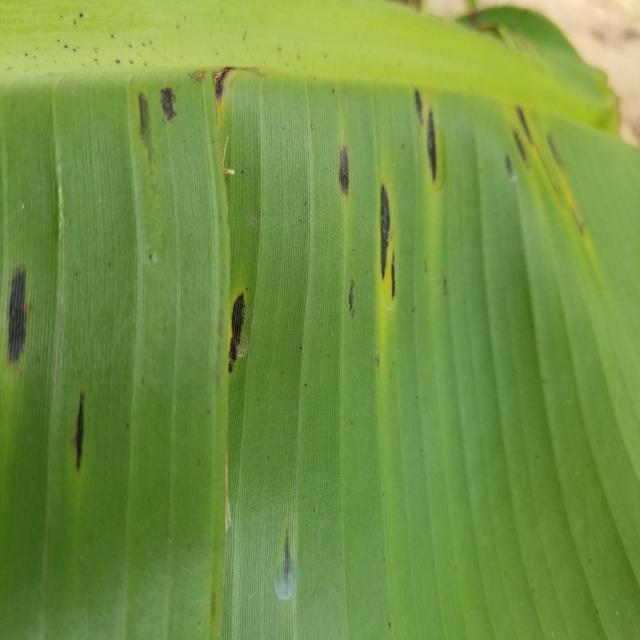Early_rust: (101, 57, 640, 372), (0, 243, 107, 478)
